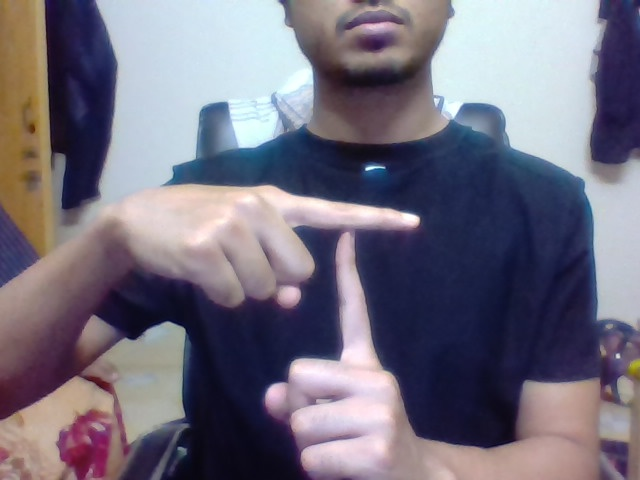T: (320, 191, 431, 351)
